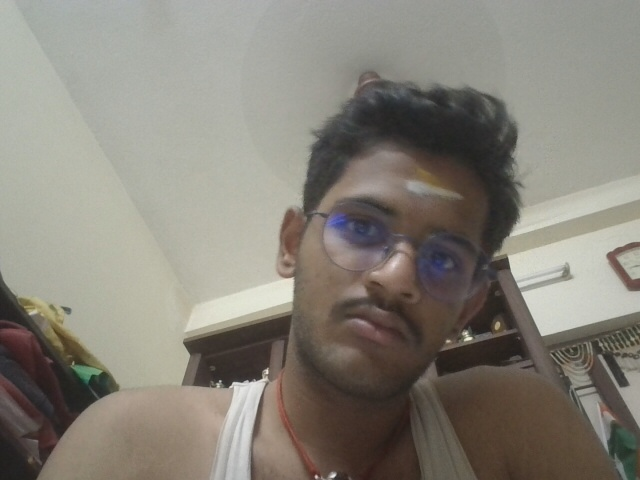real: (287, 142, 520, 375)
